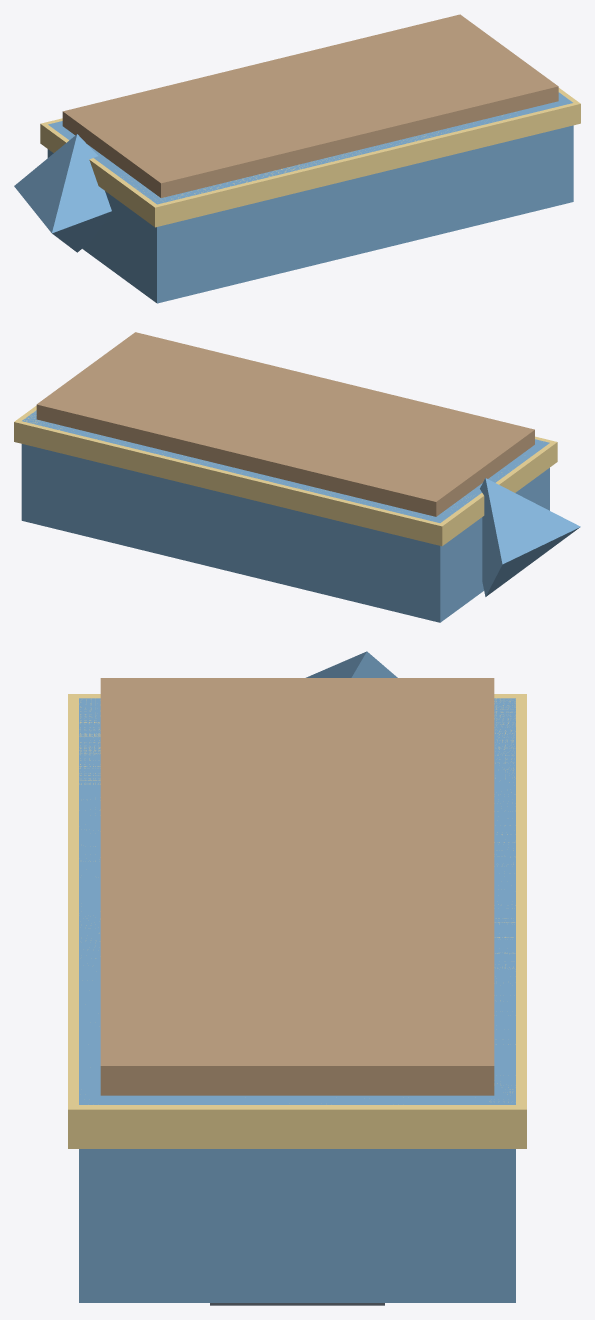
The model's file is toy_boat_hull.glb.
3 views of the same model, one above another, from view 1: azimuth 30°, elevation 25°; view 2: azimuth 150°, elevation 25°; view 3: azimuth 270°, elevation 25° (orthographic). The views are drawn at different scales.
Parts seen in each view (by area): view 1: Hull, Deck, Rail; view 2: Deck, Hull, Rail; view 3: Deck, Hull, Rail.
Boxes of the visible parts, x1,y1,x2,y2 form: Hull: (14, 92, 573, 303); Deck: (62, 14, 558, 197); Rail: (40, 88, 580, 227); Deck: (36, 332, 534, 516); Hull: (21, 410, 580, 622); Rail: (14, 405, 557, 546); Deck: (100, 678, 494, 1095); Hull: (79, 651, 515, 1302); Rail: (68, 694, 526, 1148).
Bounding box in the file's own units: 0.5168 × 0.14 × 0.21.
